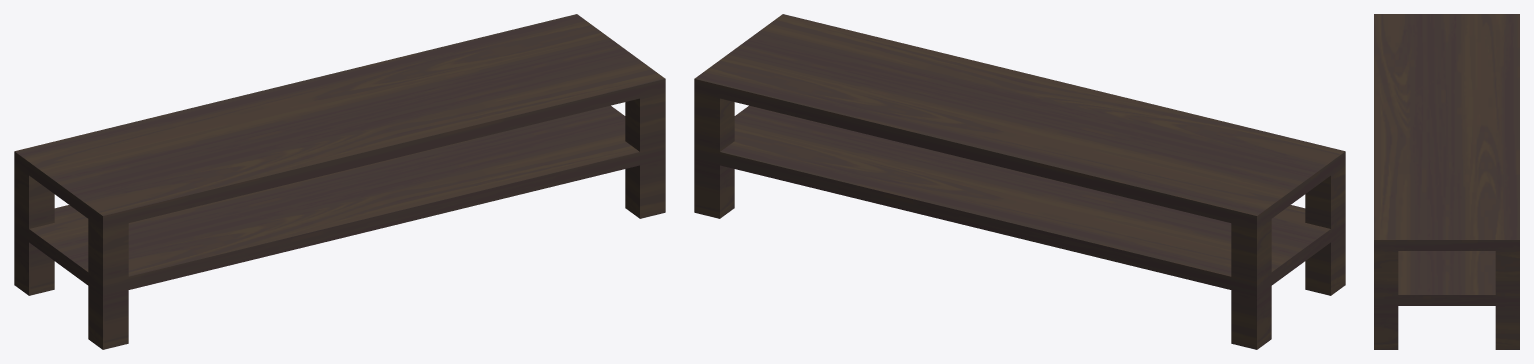
The model's file is tv_table.fbx.
3 renders of one model, left to right at view 1: azimuth 30°, elevation 25°; view 2: azimuth 150°, elevation 25°; view 3: azimuth 270°, elevation 25°, orthographic. The views are drawn at different scales.
Visible parts, largest first — view 1: tv_table.001; view 2: tv_table.001; view 3: tv_table.001.
Part boxes in pixels (box(x1,y1,x2,y2)): tv_table.001: box(14, 14, 665, 349); tv_table.001: box(694, 14, 1345, 349); tv_table.001: box(1374, 14, 1519, 349).
Size of the model in its own units: 2.44 by 0.5542 by 0.6651.
Materials: 1 (1 with a texture image).
